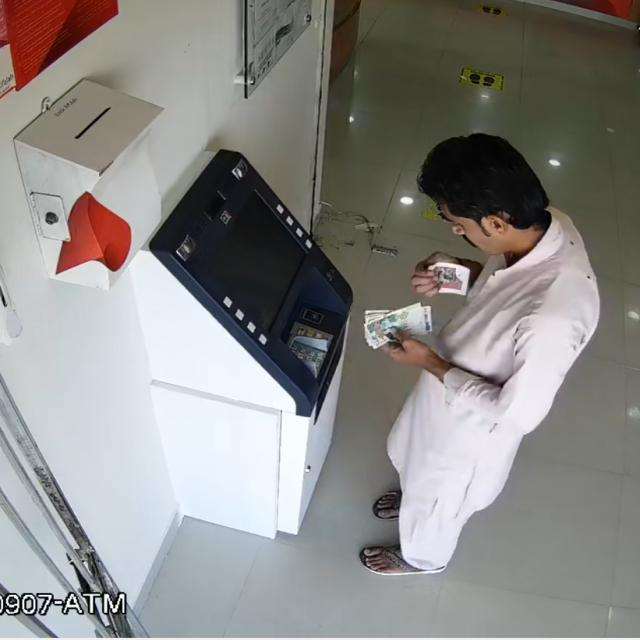note: (356, 295, 446, 356), (416, 257, 478, 309)
